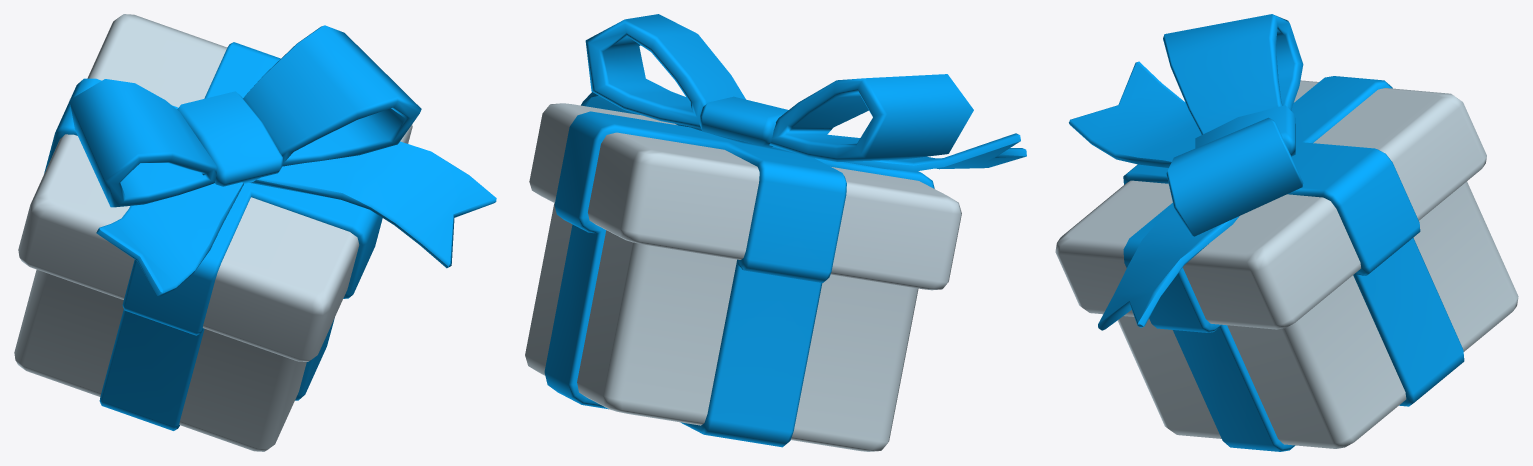
The picture shows the model from 3 angles, left to right: view 1: azimuth 30°, elevation 25°; view 2: azimuth 150°, elevation 25°; view 3: azimuth 270°, elevation 25°; orthographic projection. The views are drawn at different scales.
Parts seen in each view (by area): view 1: model_1.064; view 2: model_1.064; view 3: model_1.064.
Part boxes in pixels (bbox=[...]): model_1.064: bbox=[14, 14, 496, 451]; model_1.064: bbox=[525, 14, 1026, 451]; model_1.064: bbox=[1055, 14, 1518, 451].
Bounding box in the file's own units: 4.98 × 4.27 × 4.92.
